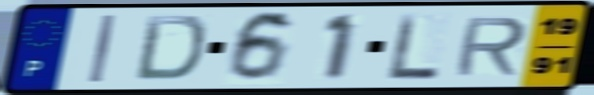1: (321, 12, 358, 82)
6: (221, 9, 300, 87)
D: (132, 14, 210, 84)
I: (86, 13, 119, 85)
L: (387, 11, 442, 82)
R: (450, 15, 531, 78)
